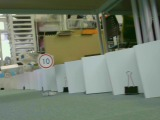speed_10: (37, 53, 55, 70)
